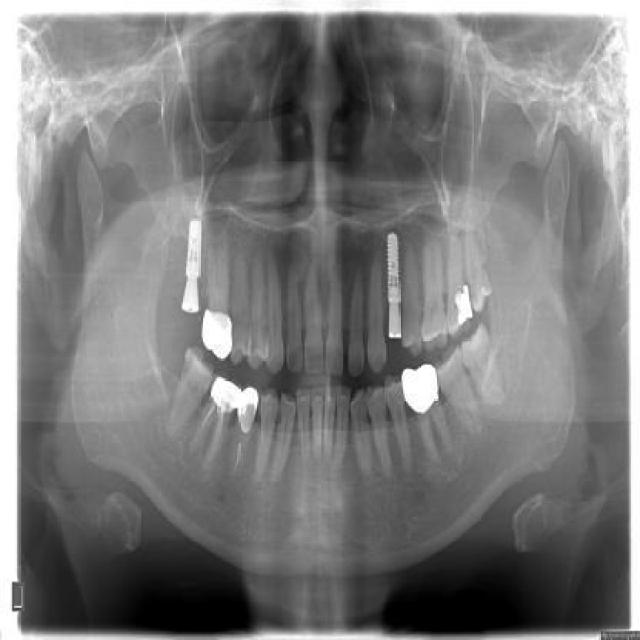dolgu: (446, 286, 474, 332)
implant: (382, 230, 408, 344), (180, 220, 205, 315)
kanal-tedavisi: (181, 399, 236, 466), (226, 435, 251, 480)
kaplama: (400, 362, 441, 415), (200, 308, 232, 359), (208, 373, 243, 413), (236, 384, 258, 432)
